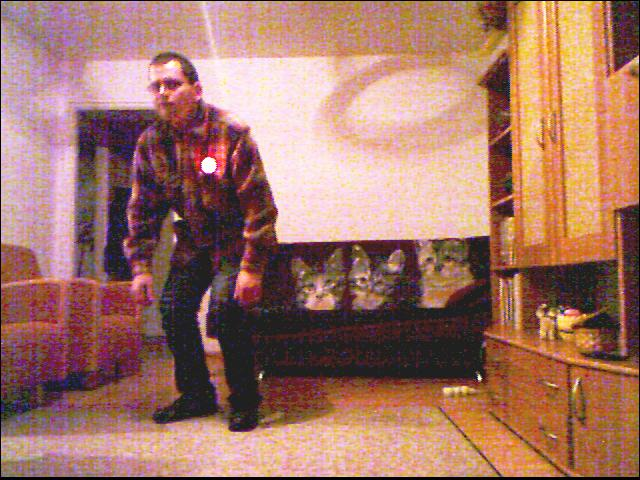bending: (108, 50, 290, 440)
